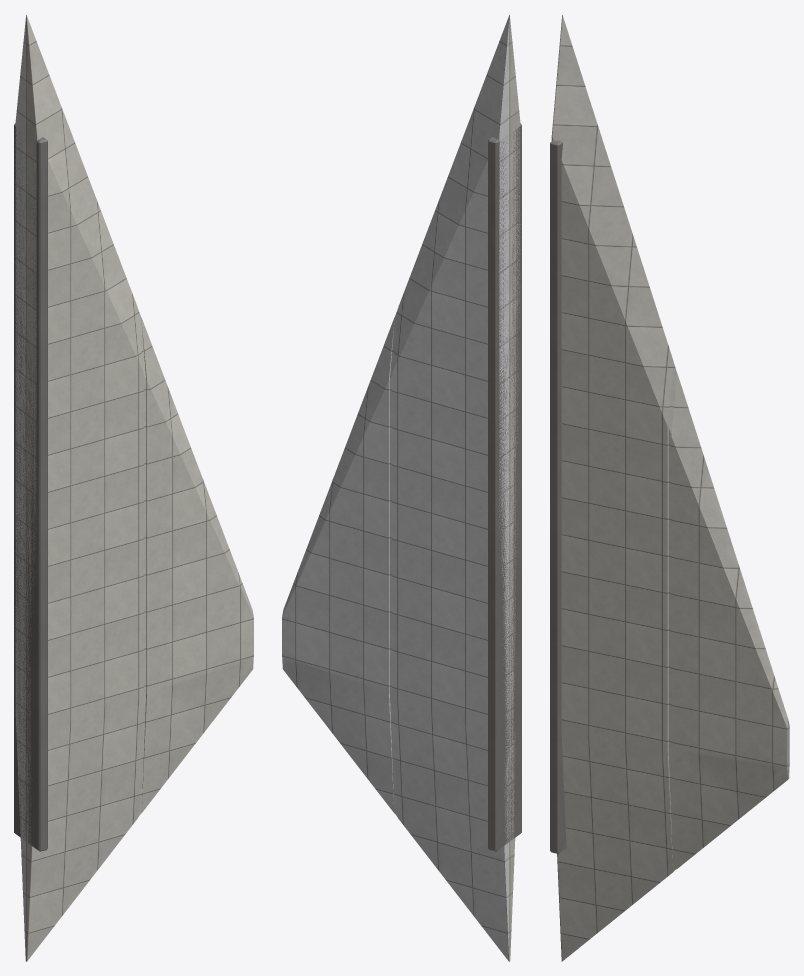
Rendered from ax_aero_19_wgk_strake_m.glb.
3 views of the same model, side by side, from view 1: azimuth 30°, elevation 25°; view 2: azimuth 150°, elevation 25°; view 3: azimuth 330°, elevation 25° (orthographic).
Parts seen in each view (by area): view 1: wing_top, root_flange, wing_underside; view 2: wing_underside, root_flange, wing_top; view 3: wing_top, root_flange.
Part boxes in pixels (<box>): wing_top: <box>26,15,253,961</box>; root_flange: <box>14,123,47,851</box>; wing_underside: <box>15,15,26,961</box>; wing_underside: <box>282,15,509,961</box>; root_flange: <box>488,123,521,851</box>; wing_top: <box>509,15,520,961</box>; wing_top: <box>551,15,788,961</box>; root_flange: <box>550,140,566,853</box>.
Size of the model in its own units: 0.96 by 3.84 by 0.192.
Materials: 3 (3 with a texture image).
